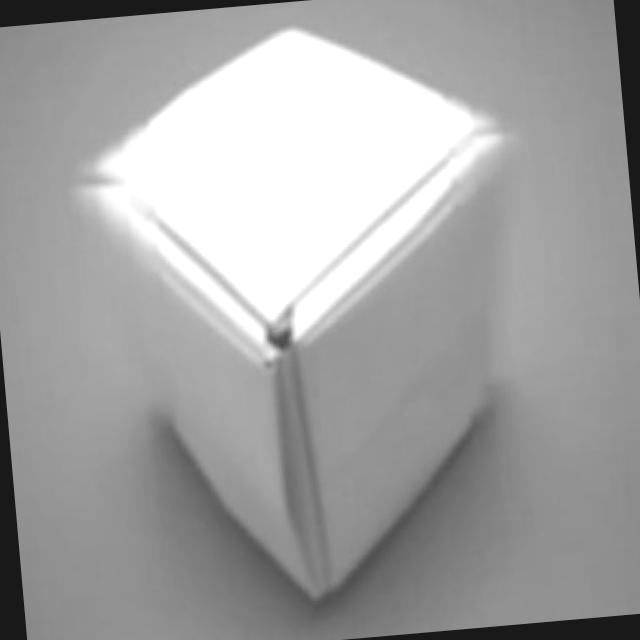box: (63, 11, 546, 621)
